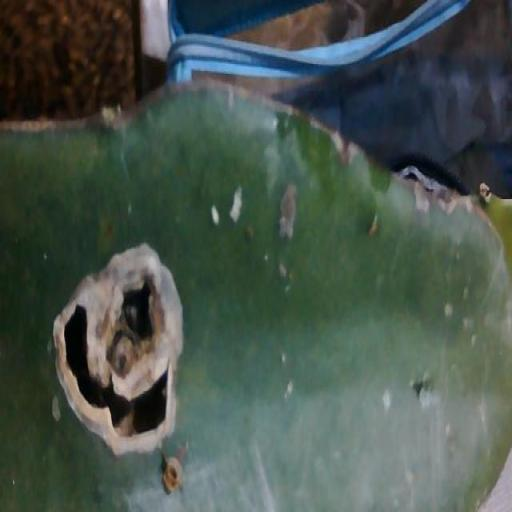stemcanker: (218, 213, 238, 256), (26, 102, 43, 136), (116, 57, 135, 87), (123, 245, 141, 276), (257, 277, 271, 308), (47, 135, 63, 159), (223, 101, 239, 124)
